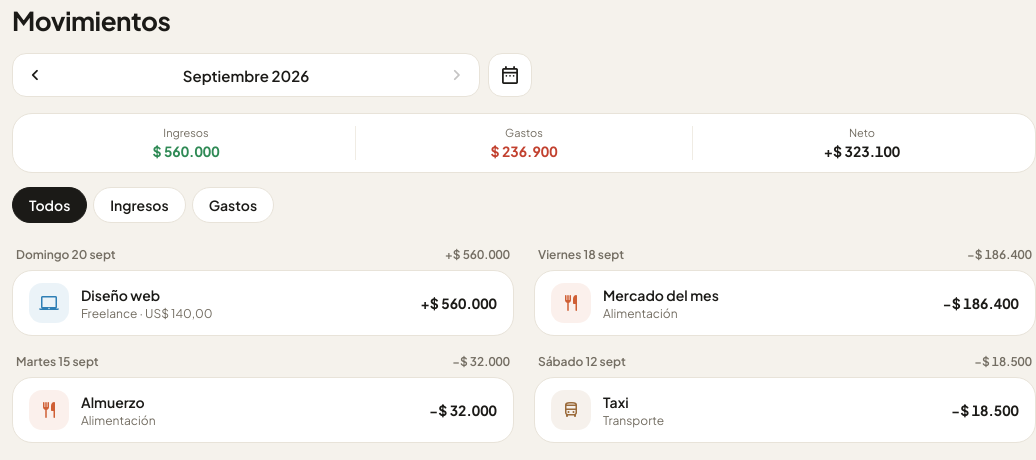
Scenario: Movimientos › la pill de Gastos deja fuera los ingresos
Expected: the text "Diseño web" is shown, [81,286,160,304]
What coordinates should you click on to do the following:
click the tab "Gastos"
I would click on:
 (233, 205)
Its box is [192,187,274,223].
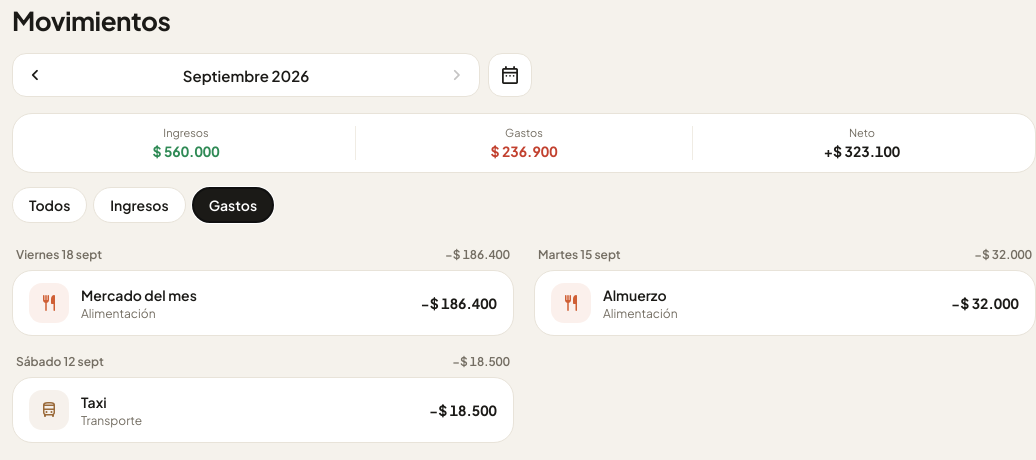
Expected: the text "Mercado del mes" is shown, [81,286,197,304]
Expected: the text "Diseño web" is gone
